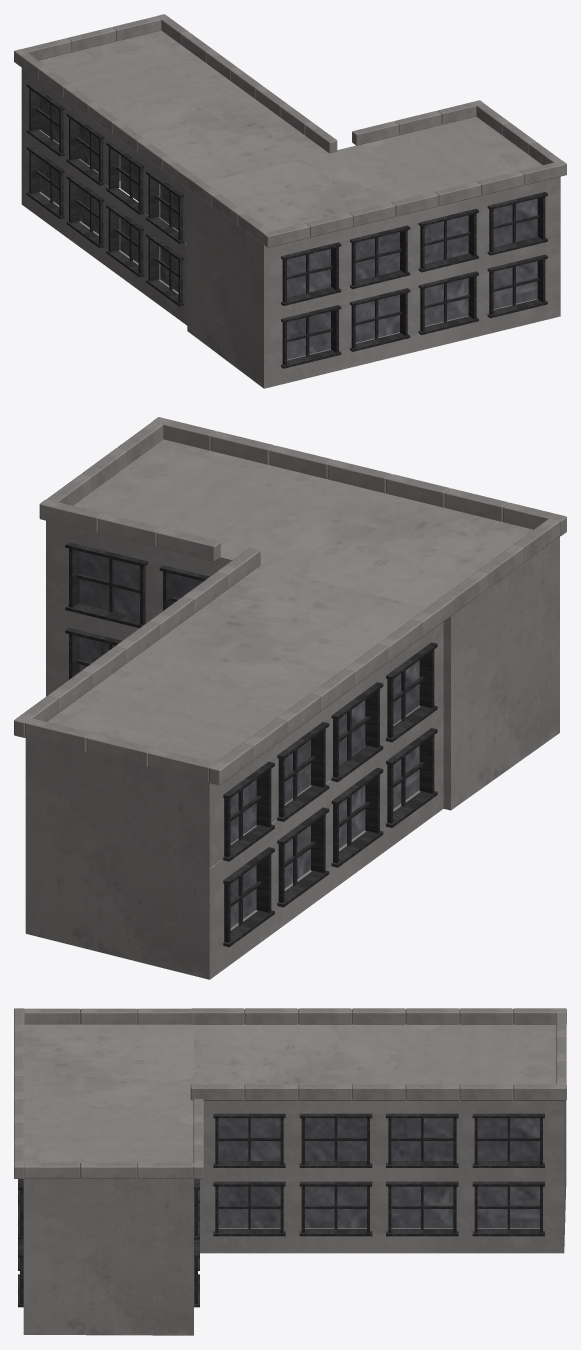
Rendered from School 2.fbx.
3 views of the same model, one above another, from view 1: azimuth 30°, elevation 25°; view 2: azimuth 150°, elevation 25°; view 3: azimuth 270°, elevation 25° (orthographic). The views are drawn at different scales.
Visible parts, largest first — view 1: Cube.007; view 2: Cube.007; view 3: Cube.007.
Part boxes in pixels (x1,y1,x2,y2): Cube.007: [14, 14, 566, 388]; Cube.007: [14, 417, 566, 979]; Cube.007: [14, 1008, 566, 1335].
Size of the model in its own units: 10829 by 5370 by 15918.
